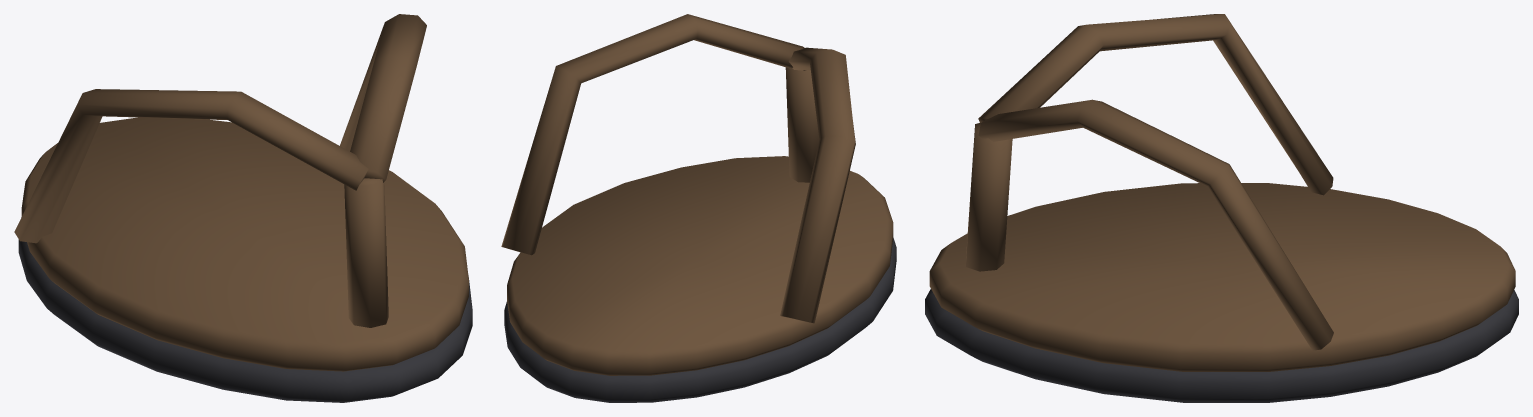
The model's file is calzado_chanclas.glb.
3 views of the same model, side by side, from view 1: azimuth 30°, elevation 25°; view 2: azimuth 150°, elevation 25°; view 3: azimuth 270°, elevation 25° (orthographic). The views are drawn at different scales.
Parts seen in each view (by area): view 1: pieza; view 2: pieza; view 3: pieza.
Part boxes in pixels (box(x1,y1,x2,y2)): pieza: box(14, 14, 472, 402); pieza: box(501, 14, 896, 402); pieza: box(925, 14, 1518, 402).
Bounding box in the file's own units: 0.2628 × 0.1844 × 0.384.
